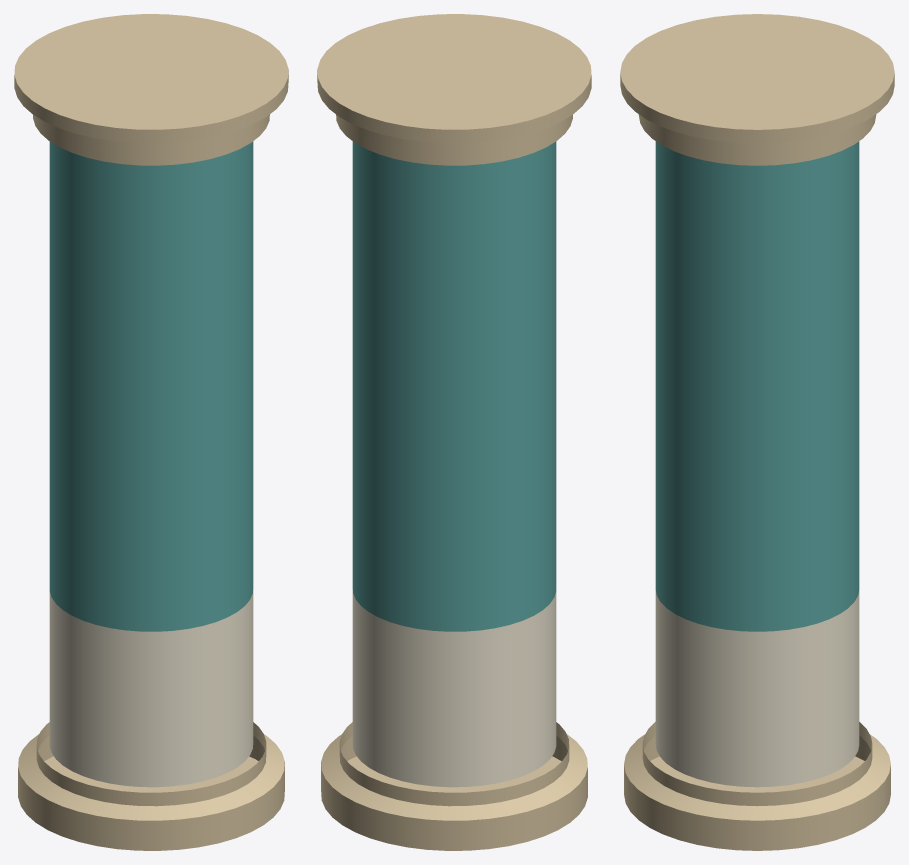
File: KC32__AD_Arc_Column_Round_4.glb
3 views of the same model, side by side, from view 1: azimuth 30°, elevation 25°; view 2: azimuth 150°, elevation 25°; view 3: azimuth 270°, elevation 25° (orthographic).
Visible parts, largest first — view 1: KC32_CORPS__AD_Arc_Column_Round_4, KC32_BRONZE__AD_Arc_Column_Round_4, KC32_LUMIERE__AD_Arc_Column_Round_4; view 2: KC32_CORPS__AD_Arc_Column_Round_4, KC32_BRONZE__AD_Arc_Column_Round_4, KC32_LUMIERE__AD_Arc_Column_Round_4; view 3: KC32_CORPS__AD_Arc_Column_Round_4, KC32_BRONZE__AD_Arc_Column_Round_4, KC32_LUMIERE__AD_Arc_Column_Round_4.
Boxes of the visible parts, x1,y1,x2,y2 form: KC32_CORPS__AD_Arc_Column_Round_4: [49, 141, 253, 631]; KC32_BRONZE__AD_Arc_Column_Round_4: [14, 14, 288, 850]; KC32_LUMIERE__AD_Arc_Column_Round_4: [49, 590, 253, 787]; KC32_CORPS__AD_Arc_Column_Round_4: [352, 141, 556, 631]; KC32_BRONZE__AD_Arc_Column_Round_4: [317, 14, 591, 850]; KC32_LUMIERE__AD_Arc_Column_Round_4: [352, 590, 556, 787]; KC32_CORPS__AD_Arc_Column_Round_4: [655, 141, 859, 631]; KC32_BRONZE__AD_Arc_Column_Round_4: [620, 14, 894, 850]; KC32_LUMIERE__AD_Arc_Column_Round_4: [655, 590, 859, 787].
Size of the model in its own units: 1.48 by 4.3 by 1.48.
